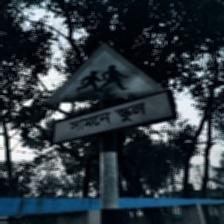School-in-front: (46, 43, 174, 145)
